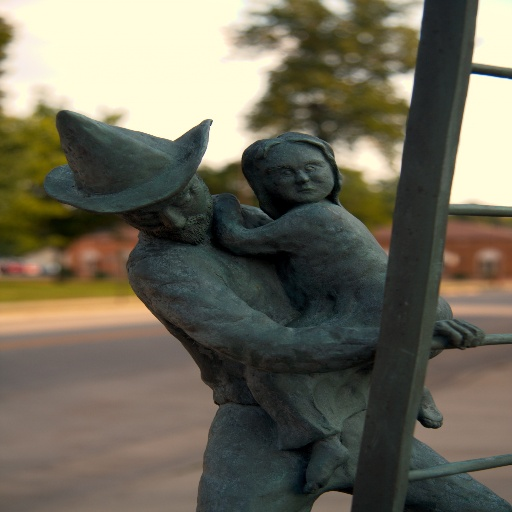hand: (435, 317, 483, 350), (215, 192, 245, 221)
